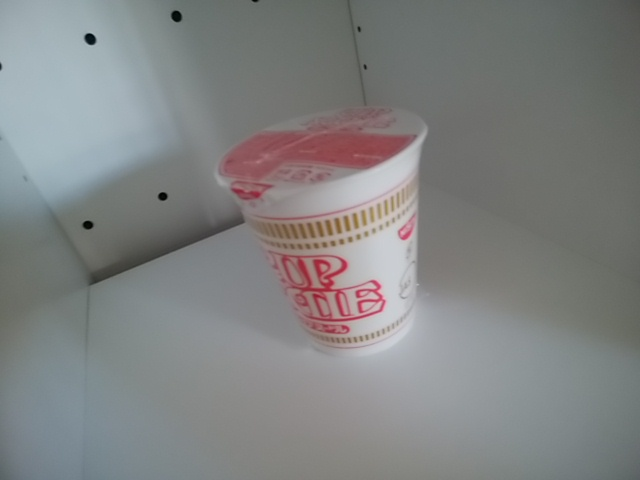cup-ramen: (215, 101, 447, 367)
